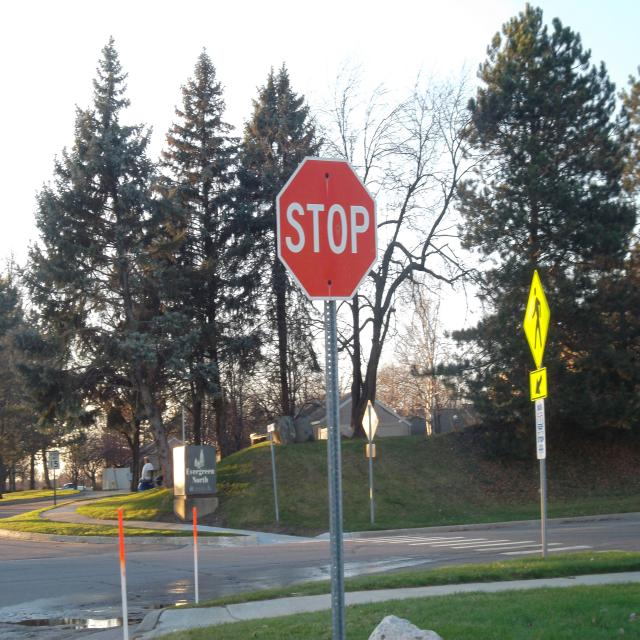stop: (273, 152, 380, 305)
warning: (522, 269, 550, 368)
